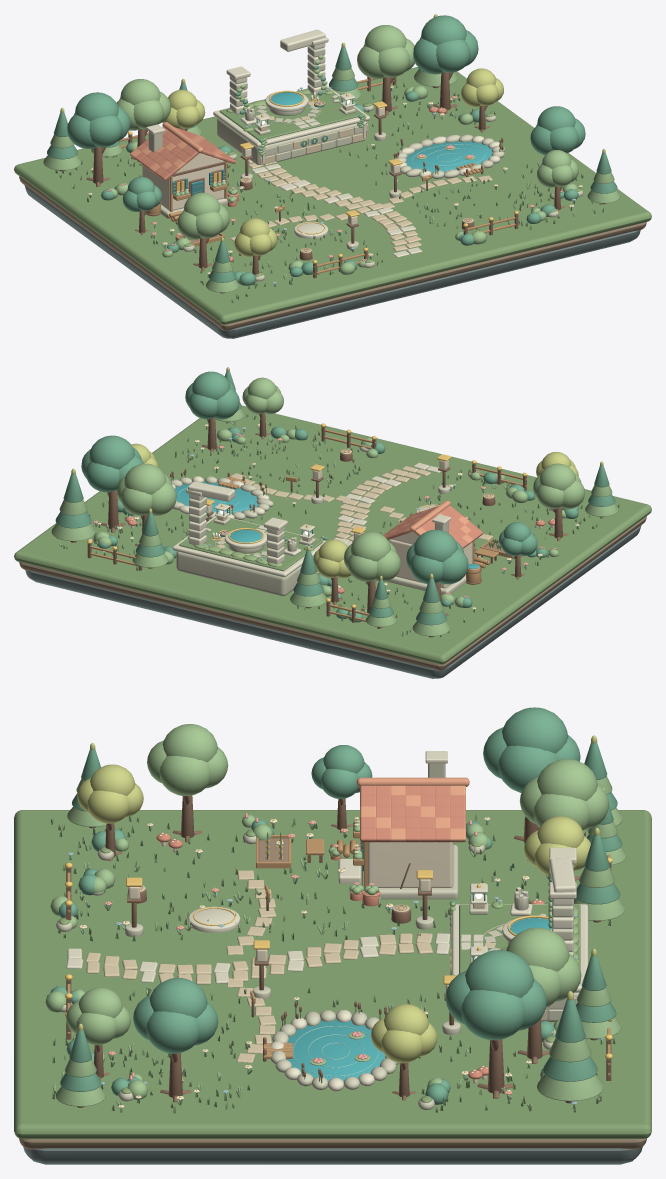
Rendered from island.glb.
3 views of the same model, one above another, from view 1: azimuth 30°, elevation 25°; view 2: azimuth 150°, elevation 25°; view 3: azimuth 270°, elevation 25° (orthographic). The views are drawn at different scales.
Visible parts, largest first — view 1: island / material batches; view 2: island / material batches; view 3: island / material batches.
Boxes of the visible parts, <box> form: island / material batches: <box>14,14,651,338</box>; island / material batches: <box>14,367,651,678</box>; island / material batches: <box>14,707,651,1164</box>.
Size of the model in its own units: 25.5 by 6.88 by 21.5.
